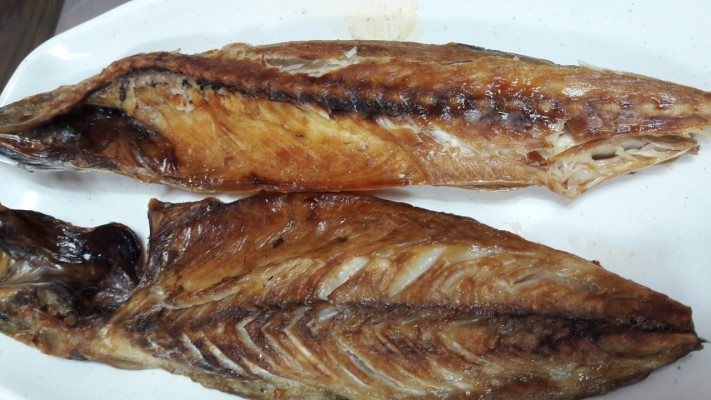godeung-eogu-i: (0, 189, 701, 400), (0, 34, 709, 192)
